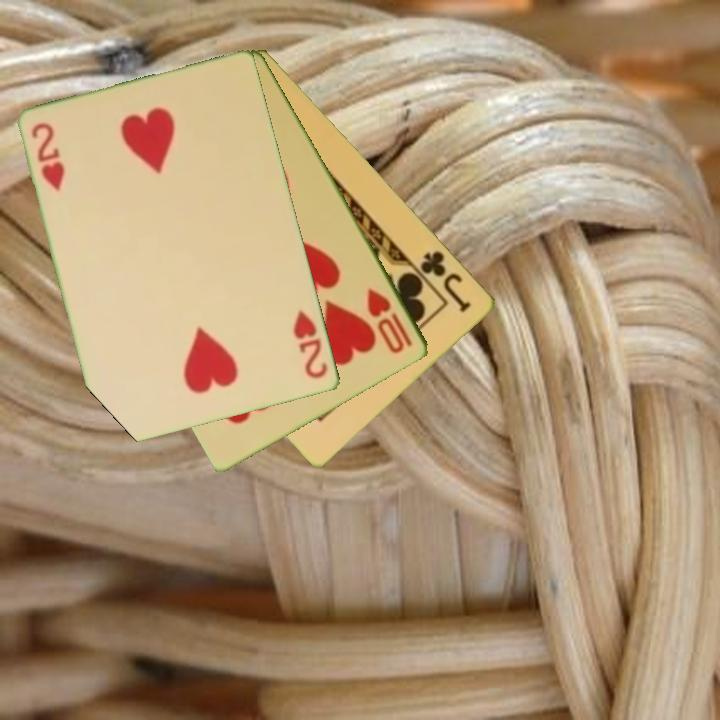10h: (363, 284, 416, 357)
2h: (290, 307, 331, 382), (28, 119, 68, 194)
Jc: (417, 247, 475, 316)
